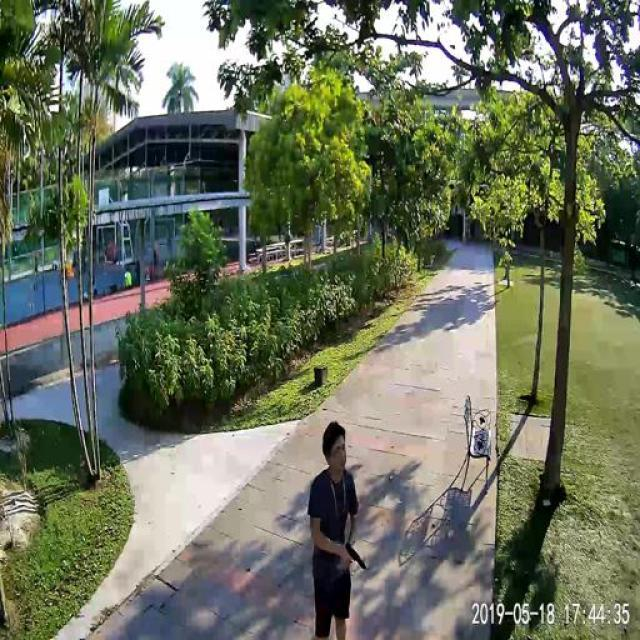Gun: (338, 538, 371, 578)
